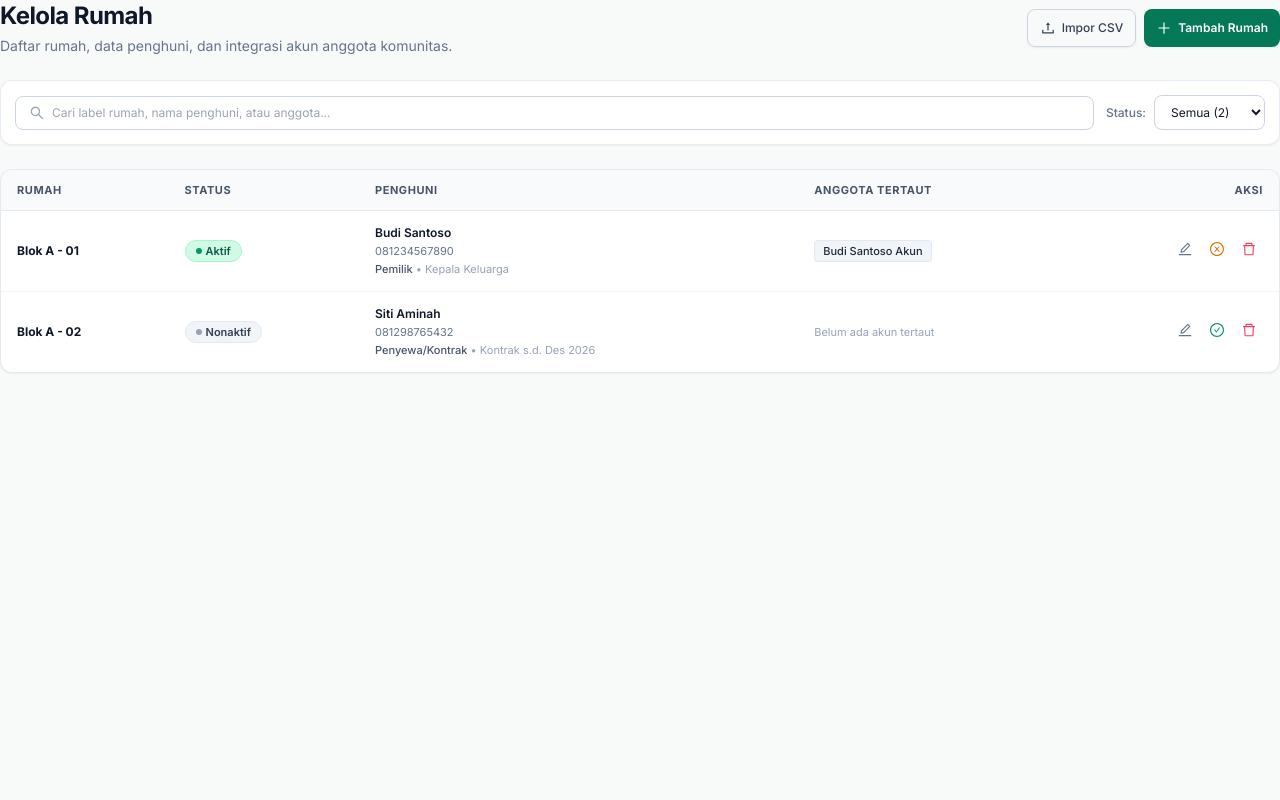
Test: TenantUnits Page (RTRW-2.3) › c. hapus unit yang ditolak service → pesan error service tampil
Expected: the text "Blok A - 01" is shown, 1,210 -> 169,292
Klik tombol hapus (ikon/title Hapus unit di desktop)
What coordinates should you click on to do the following:
click the button titled "Hapus unit" in the row of "Blok A - 01"
I would click on:
 (1249, 249)
Its box is 1235,235 -> 1263,263.
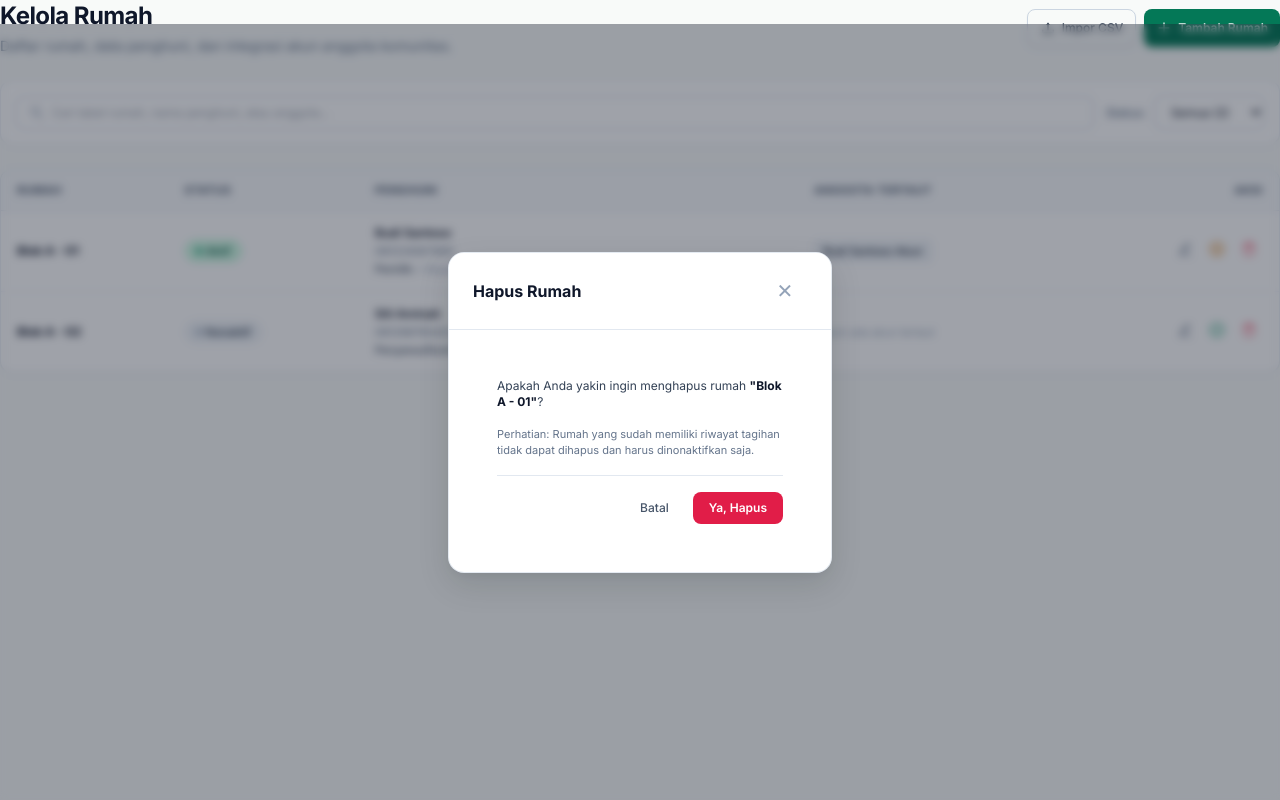
Expected: the dialog is shown, 448,252 -> 832,572
Expected: the text "Apakah Anda yakin ingin menghapus rumah \"Blok A - 01\"?" is shown, 497,378 -> 783,410
Klik tombol konfirmasi hapus
What coordinates should you click on to do the following:
click the button "Ya, Hapus"
I would click on:
 (738, 508)
Its box is 693,492 -> 783,524.
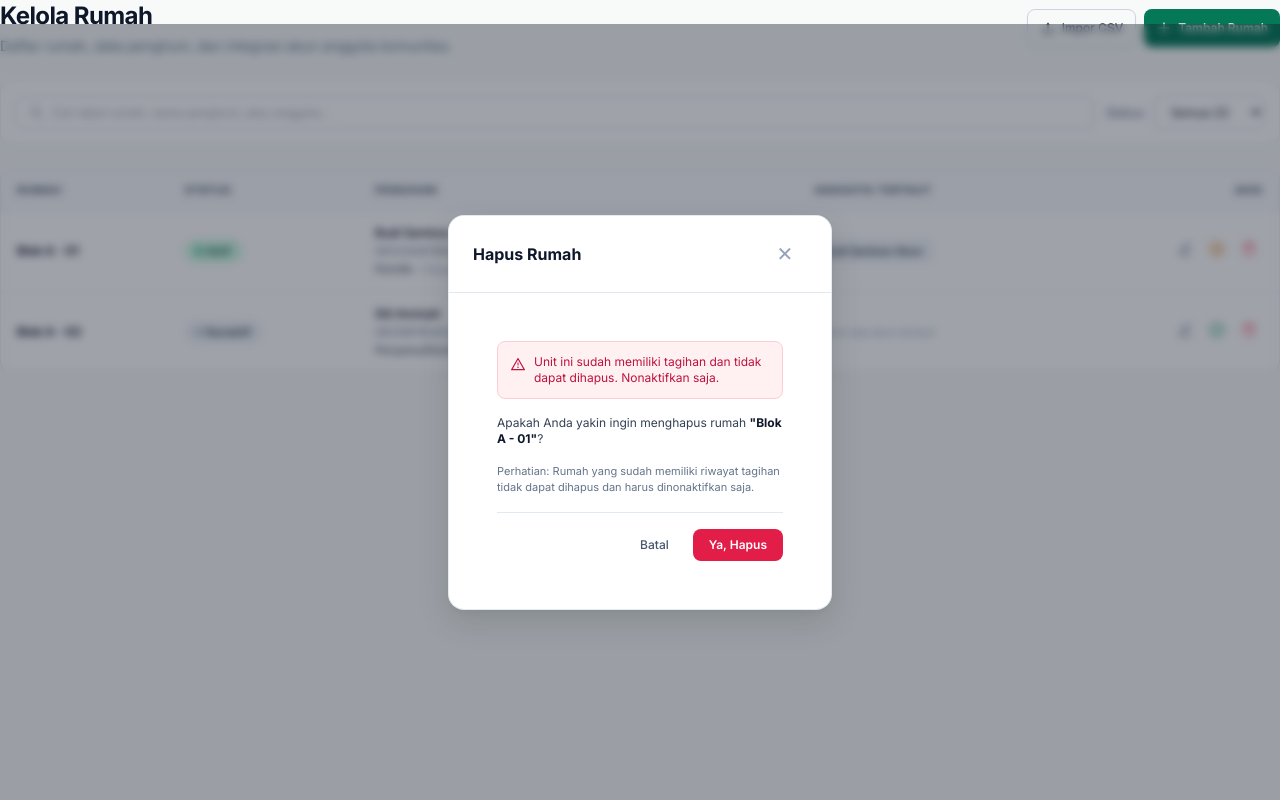
Expected: the text "Unit ini sudah memiliki tagihan dan tidak dapat dihapus. Nonaktifkan saja." is shown, 534,354 -> 770,386
